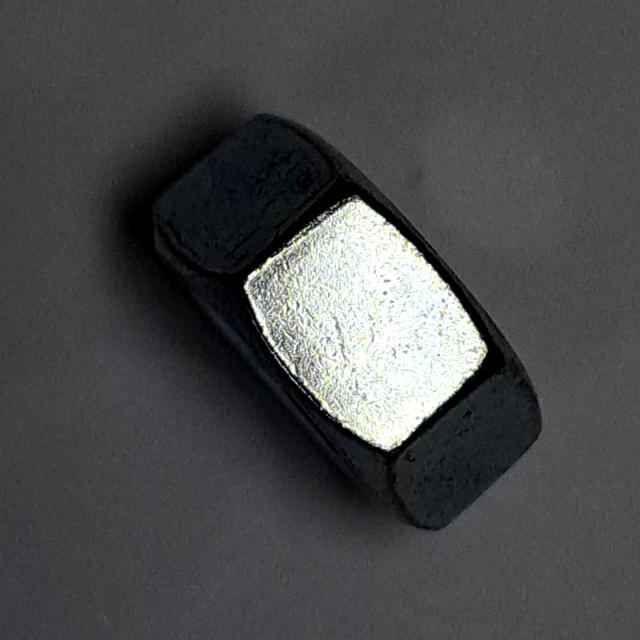Side_Excellent: (139, 94, 574, 544)
